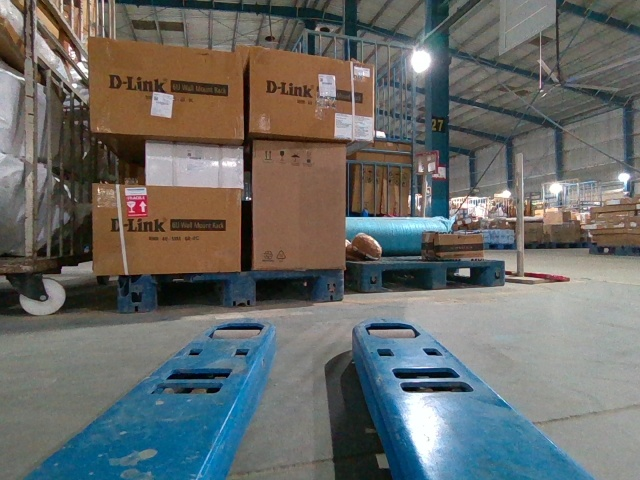block: (121, 274, 159, 311), (313, 270, 342, 300), (226, 274, 254, 303), (359, 262, 382, 292), (483, 261, 506, 287), (431, 262, 448, 288)
front: (122, 268, 344, 309), (361, 261, 505, 292)
hole pallet: (156, 281, 224, 306), (256, 279, 314, 304), (380, 267, 432, 290), (446, 267, 486, 287)
